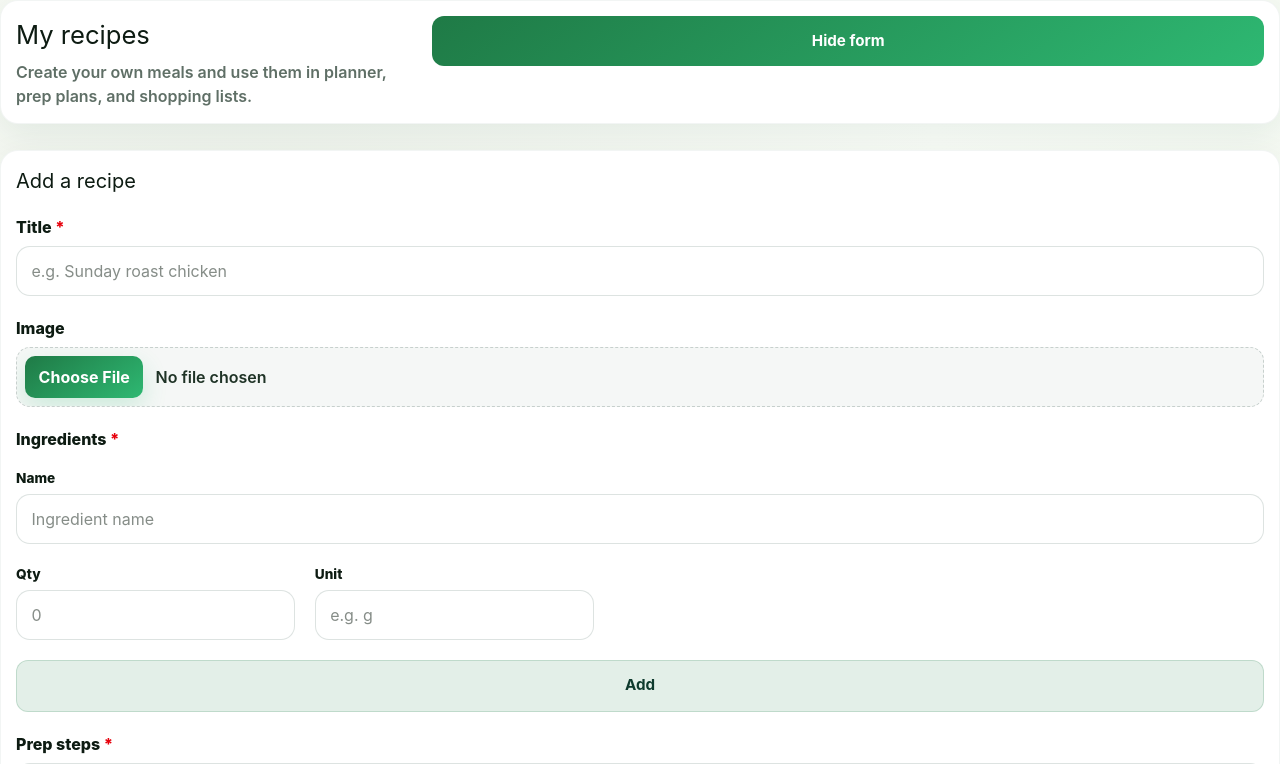
Test: Custom Recipes Page › toggles the form visibility with the hide form button
The width and height of the screenshot is (1280, 764).
Click the button "Hide form".
click(848, 41)  # box [432,16,1264,66]
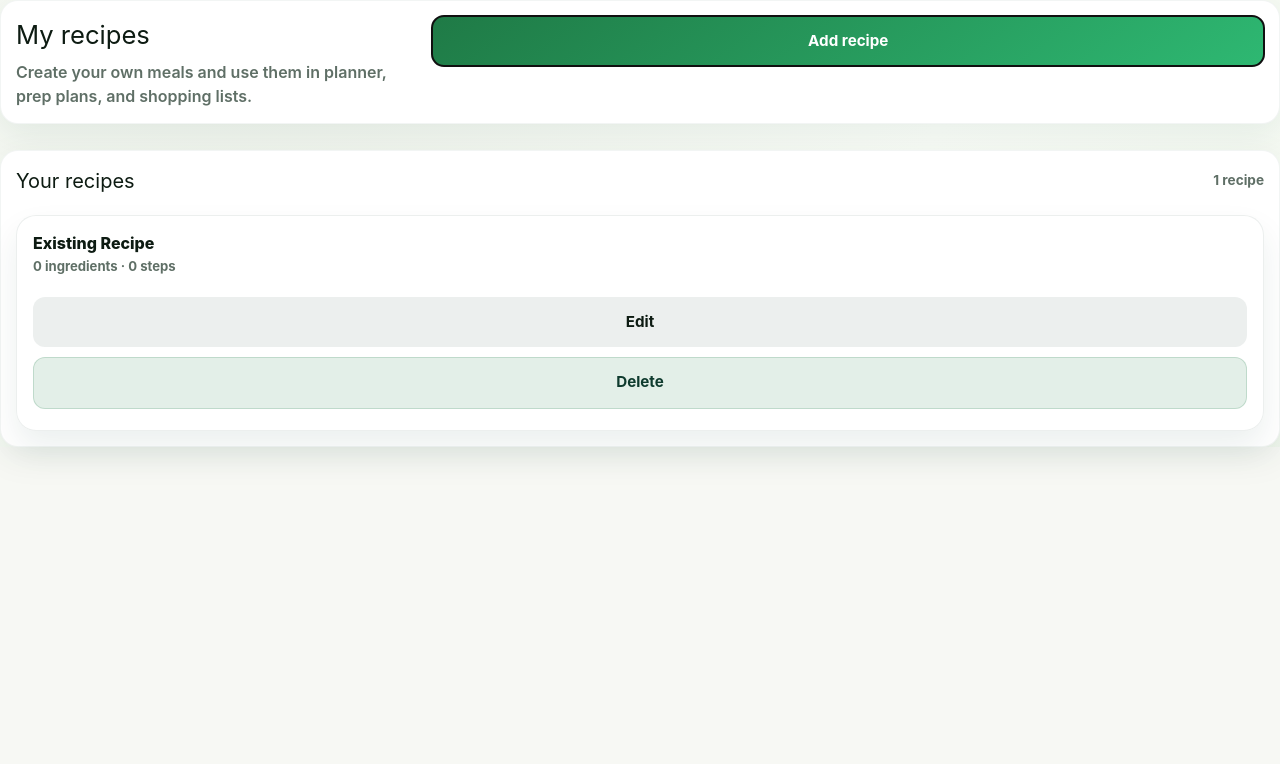
expect the heading "Add a recipe" is gone: met
expect the button "Add recipe" is shown: met, box [432,16,1264,66]
